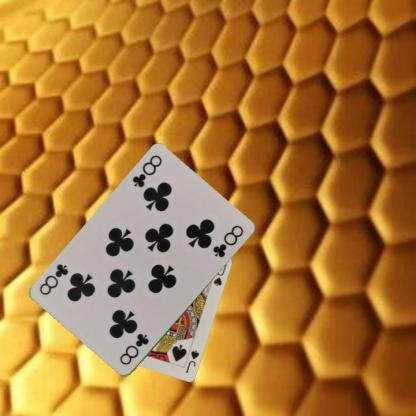8c: (130, 152, 164, 190), (117, 331, 151, 367)
Js: (182, 347, 200, 374)
